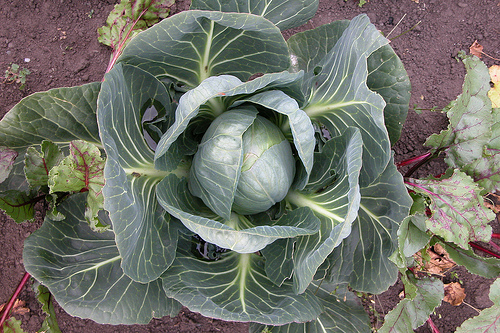cabbage: (1, 2, 440, 330)
